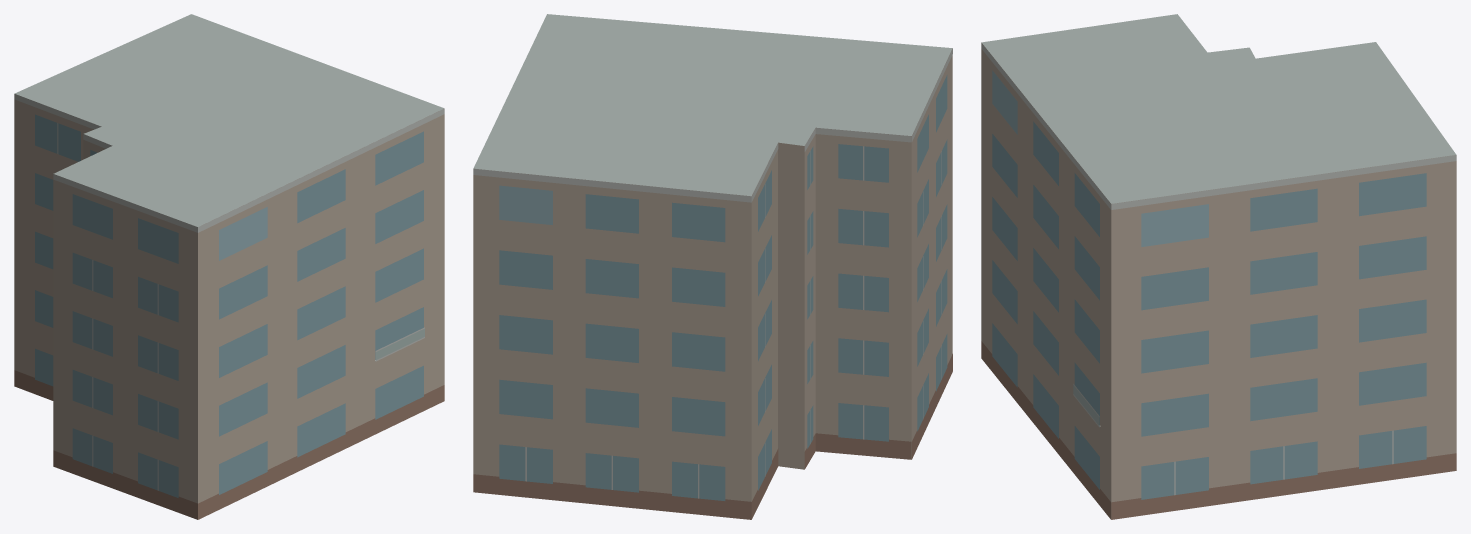
File: survey-upis-32917797.glb
3 views of the same model, side by side, from view 1: azimuth 30°, elevation 25°; view 2: azimuth 150°, elevation 25°; view 3: azimuth 270°, elevation 25° (orthographic). The views are drawn at different scales.
Visible parts, largest first — view 1: survey-upis-32917797.tmp; view 2: survey-upis-32917797.tmp; view 3: survey-upis-32917797.tmp.
Part boxes in pixels (<box>): survey-upis-32917797.tmp: <box>14,14,444,519</box>; survey-upis-32917797.tmp: <box>473,14,952,519</box>; survey-upis-32917797.tmp: <box>981,14,1456,519</box>.
Bounding box in the file's own units: 16.06 × 12.45 × 16.98.
